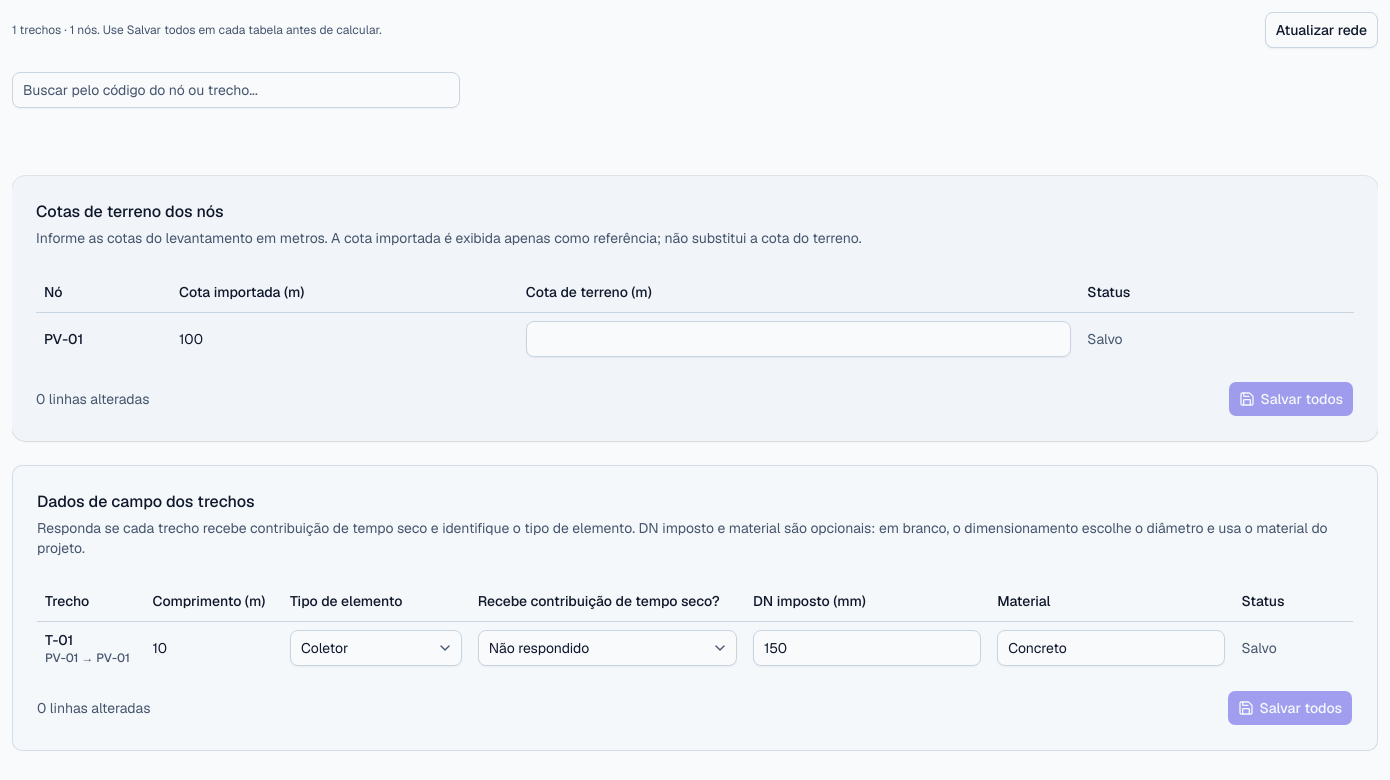
Scenario: network field data › preserves pavement, imposed diameter and material when saving an explicit false answer, then clears obsolete results
Click the dropdown named "Contribuição de tempo seco T-01" at (607, 648), box [478,630,737,666]
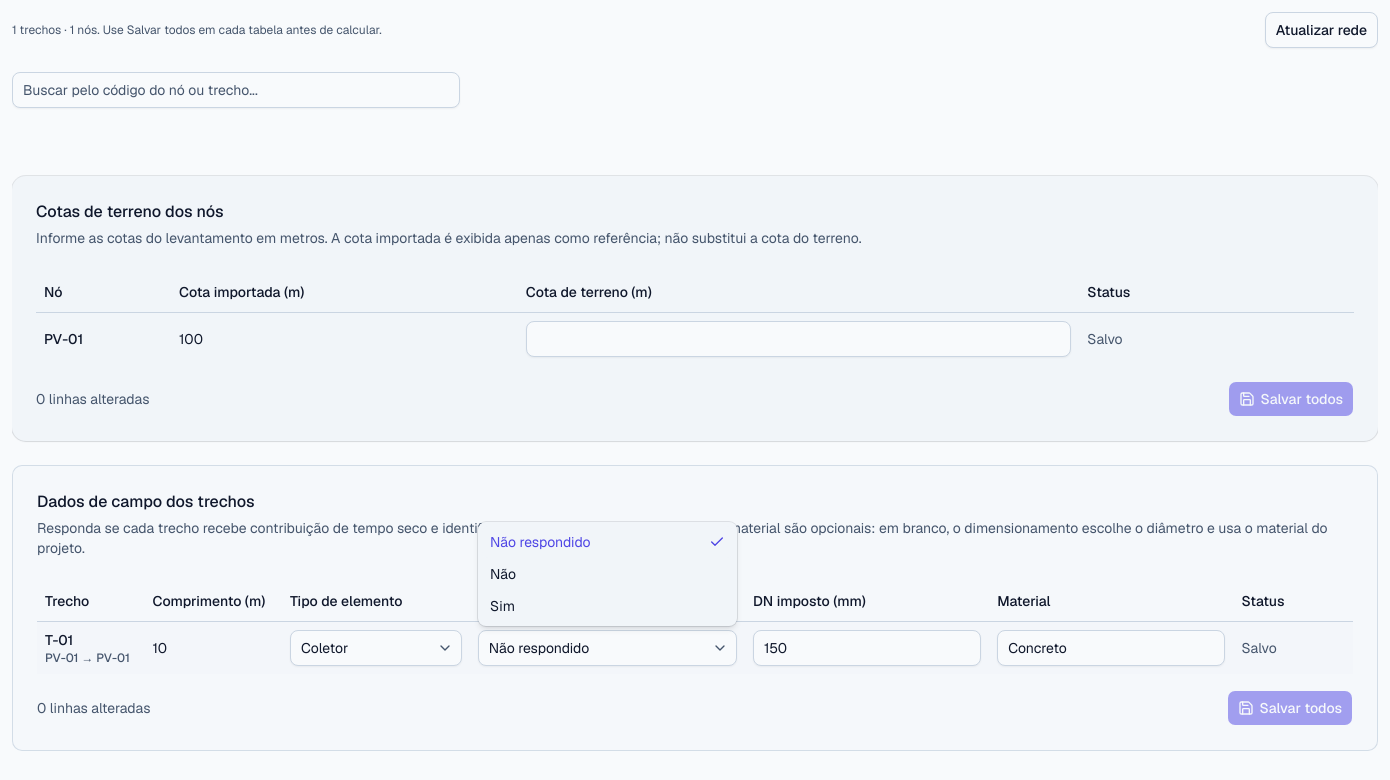
Click the option "Não" at (503, 574), box [490,565,516,583]
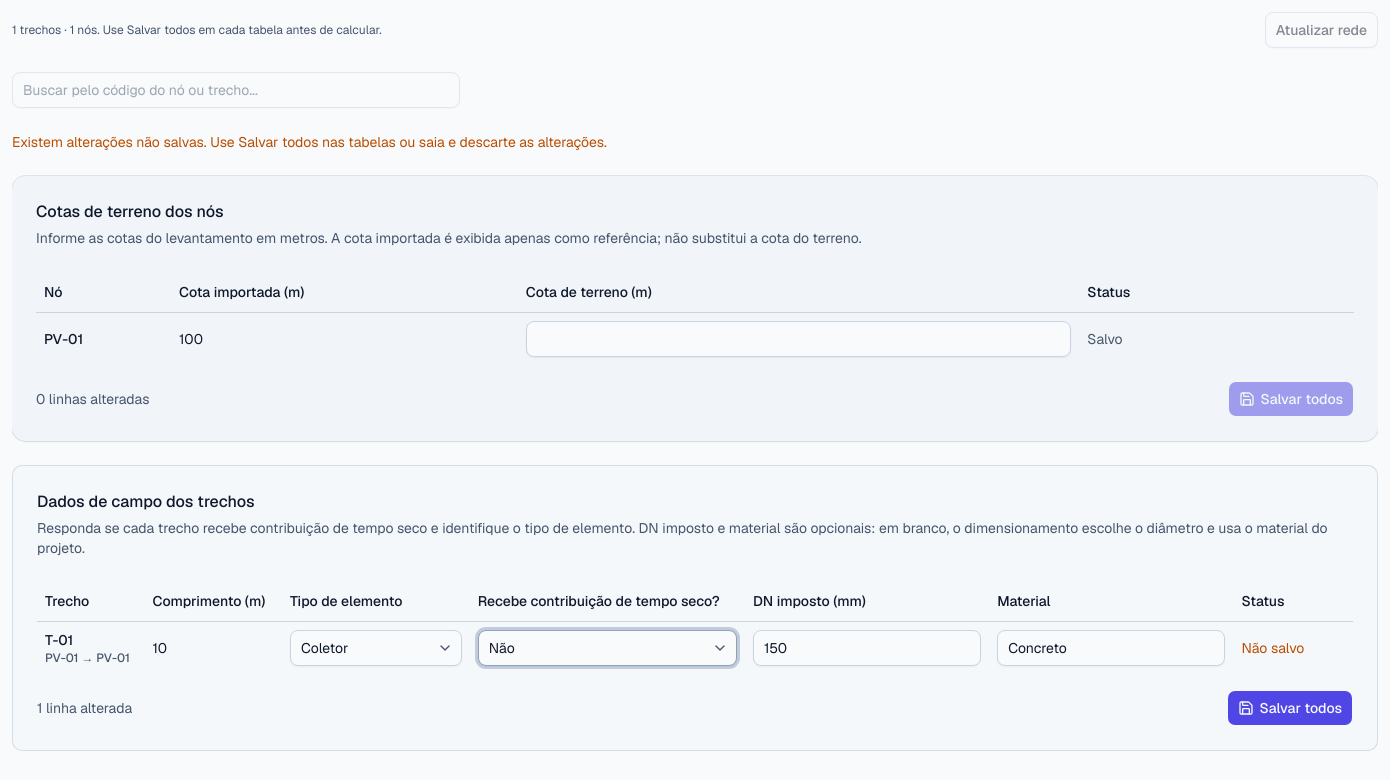
Click the button with aria-label "Salvar todos os trechos" at (1290, 708), box [1226,690,1353,726]
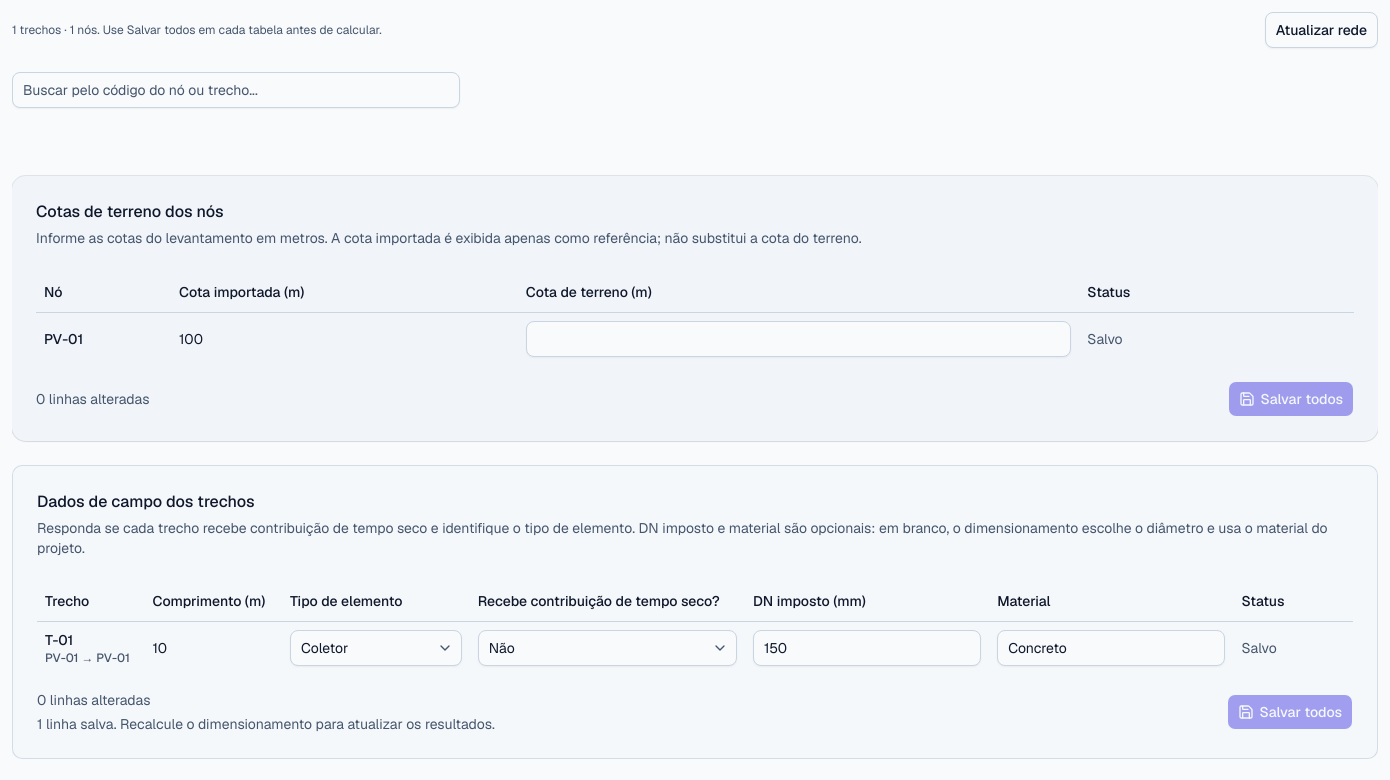
Check: the dropdown named "Contribuição de tempo seco T-01" reads "Não", box [478,630,737,666]
Check: the button with aria-label "Salvar todos os trechos" is disabled, box [1226,694,1353,730]
